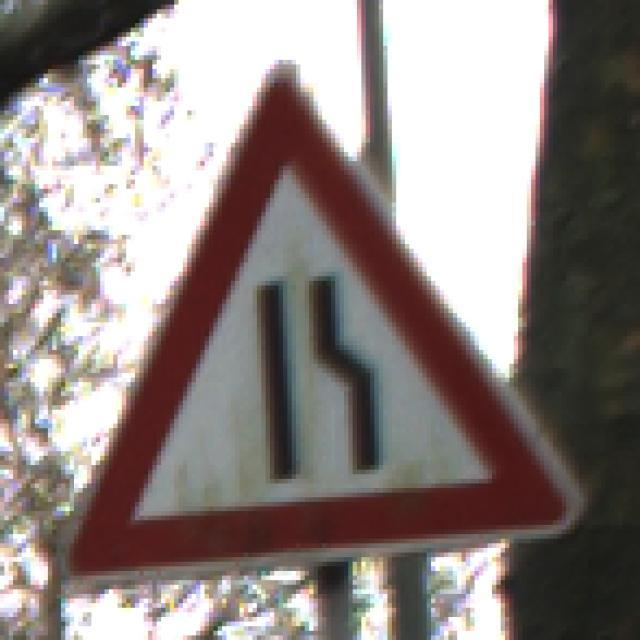narrow road ahead: (63, 69, 570, 580)
